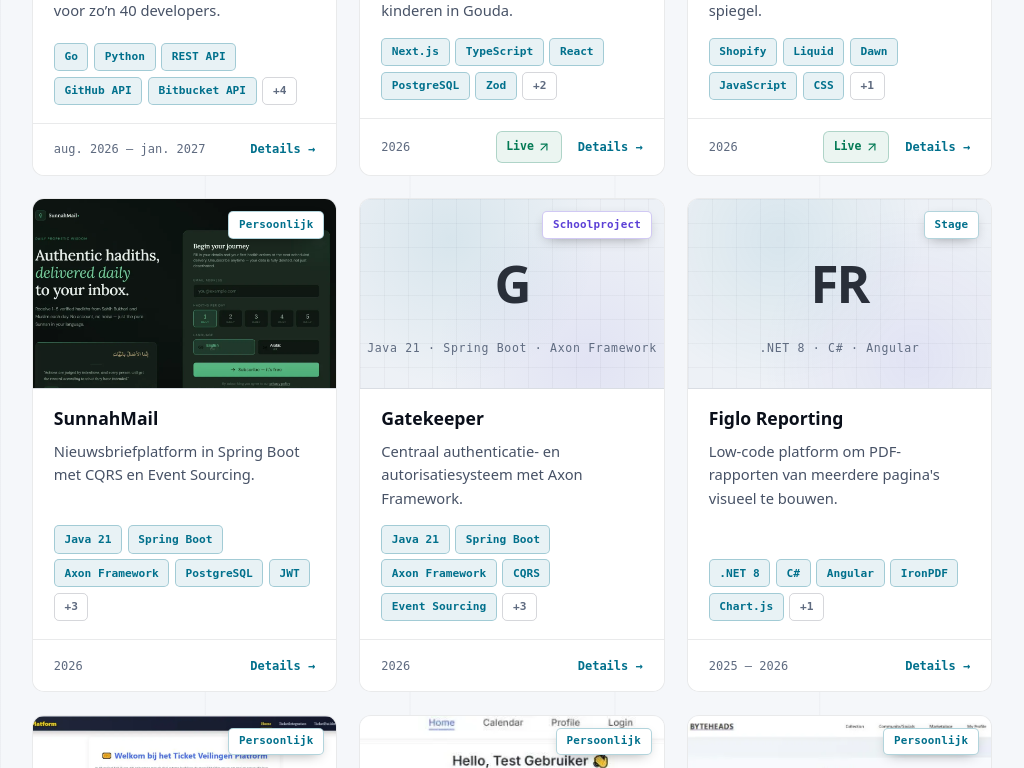
Projects › toont een placeholder en notitie voor projecten zonder screenshots
(page scrolled)
Click the button "Gatekeeper" at (433, 419), box 381,407 -> 484,430
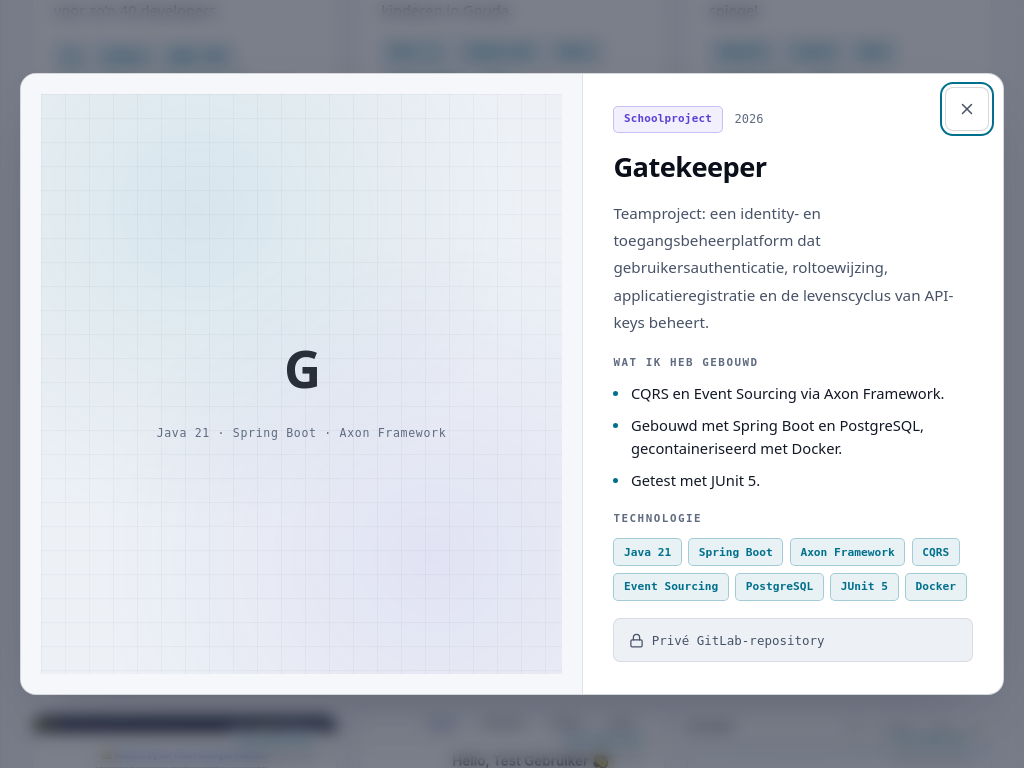
Expected: the text "Privé GitLab-repository" is shown, 613,618 -> 973,662
